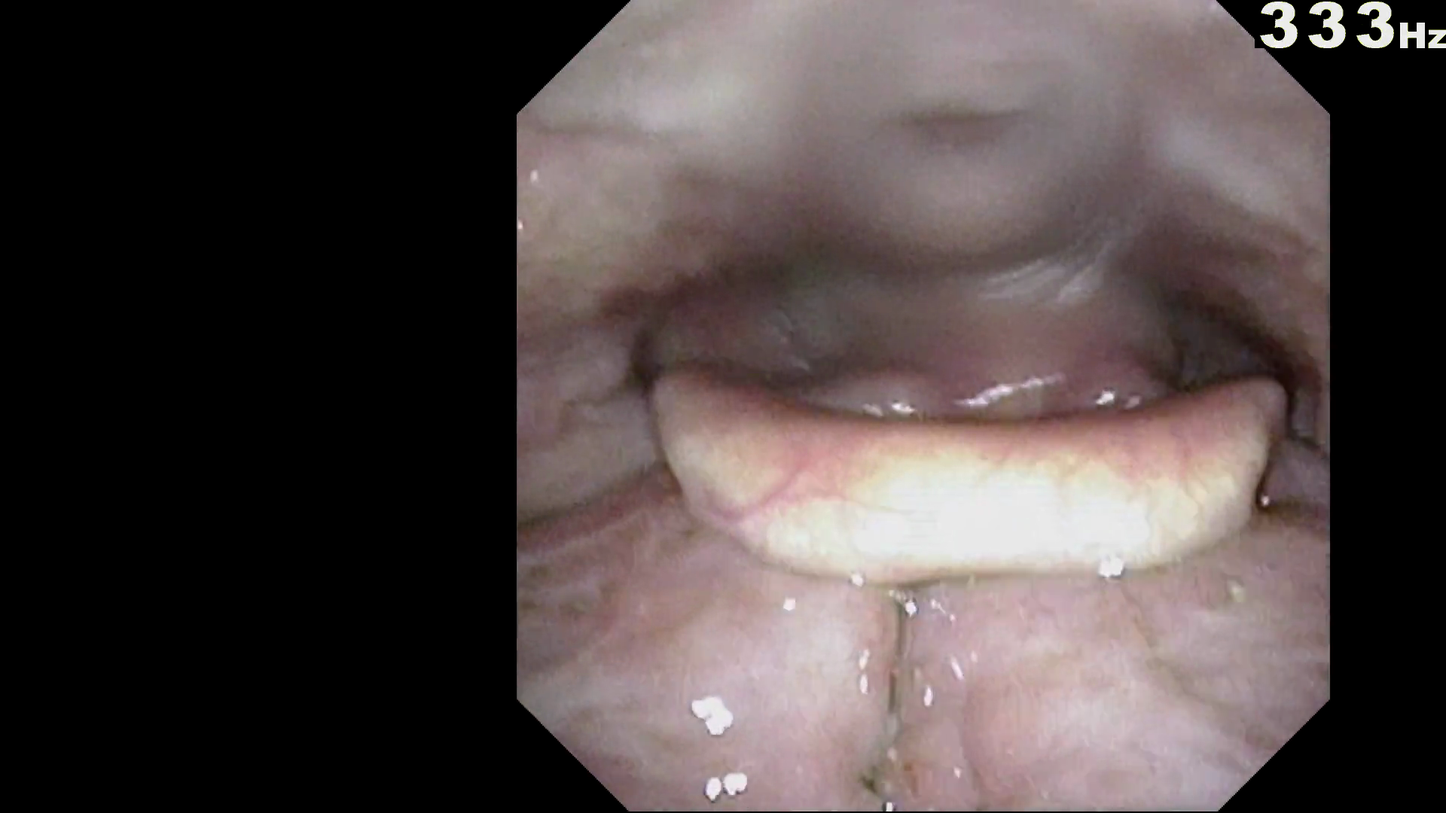epiglottis: (665, 366, 1274, 591)
trachea: (970, 487, 1033, 548)
